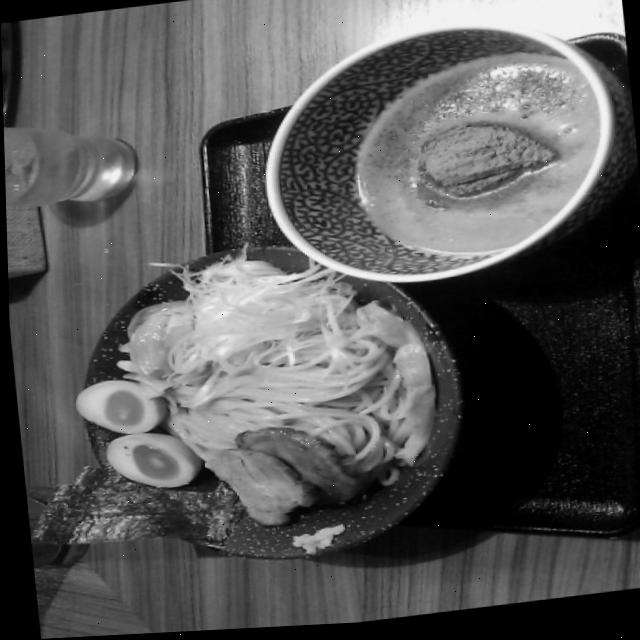面条主食: (62, 229, 490, 579), (237, 0, 614, 296)
